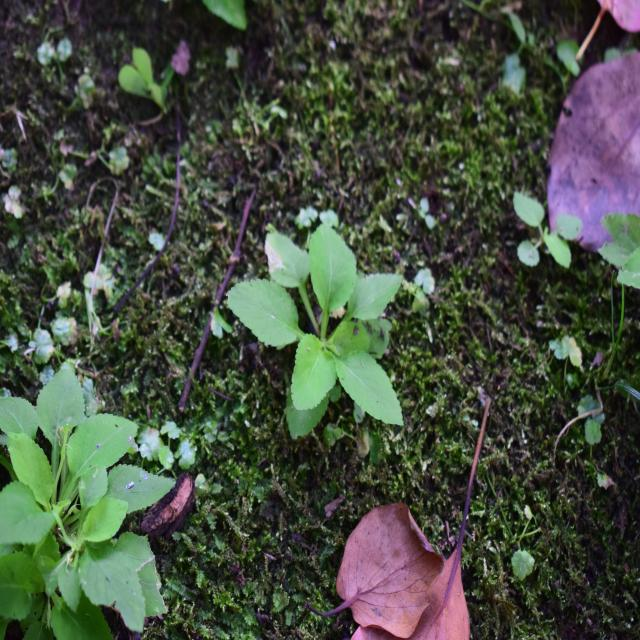Viola: (0, 359, 177, 621), (232, 229, 402, 456)
